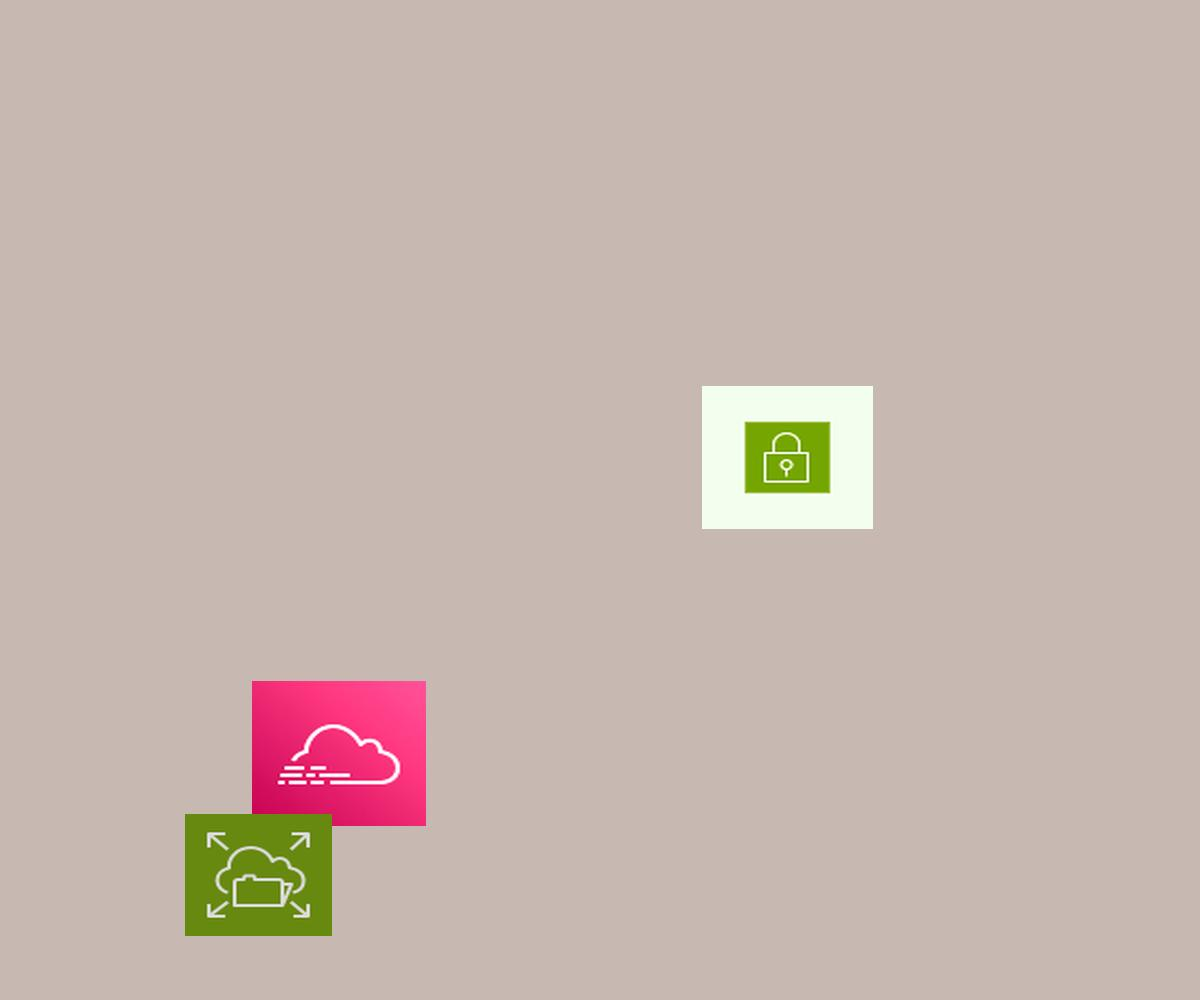AWS-CloudTrail: (252, 681, 426, 826)
AWS-EFS: (185, 814, 332, 936)
AWS-Public-subnet: (702, 386, 873, 529)
